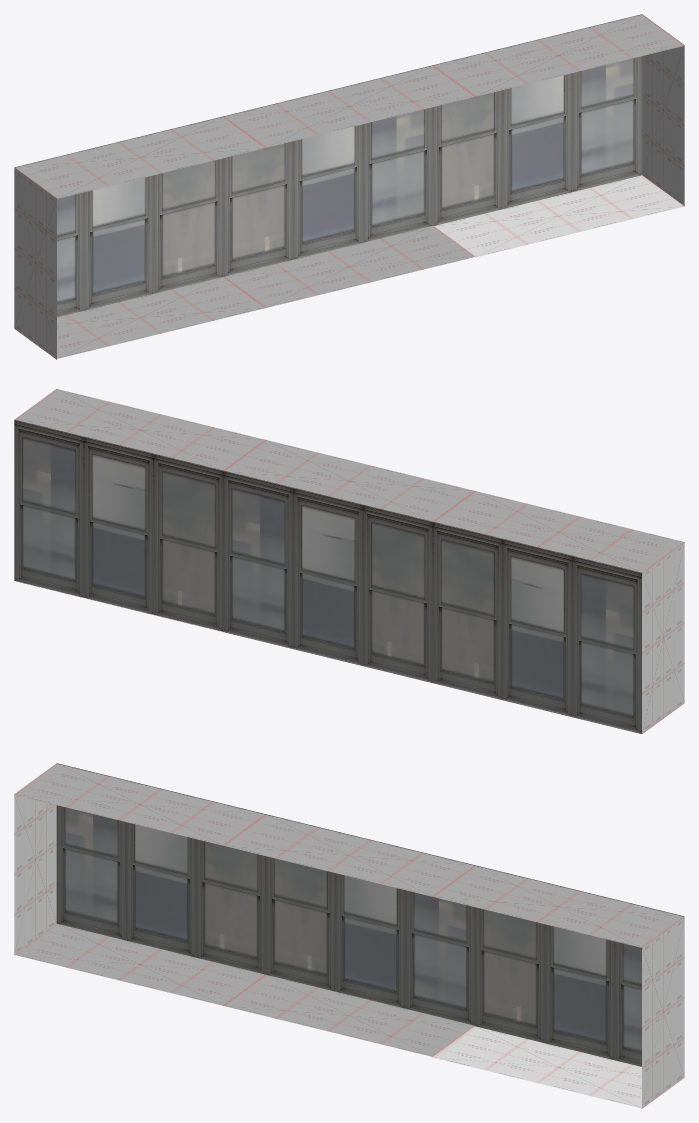
File: BS_01_3x_inner.FBX
3 renders of one model, top to bottom at view 1: azimuth 30°, elevation 25°; view 2: azimuth 150°, elevation 25°; view 3: azimuth 330°, elevation 25°, orthographic.
Parts seen in each view (by area): view 1: Object263; view 2: Object263; view 3: Object263.
Part boxes in pixels (x1,y1,x2,y2): Object263: (14, 14, 684, 359); Object263: (14, 389, 684, 733); Object263: (14, 763, 684, 1108).
Size of the model in its own units: 60.01 by 7.09 by 14.74.
